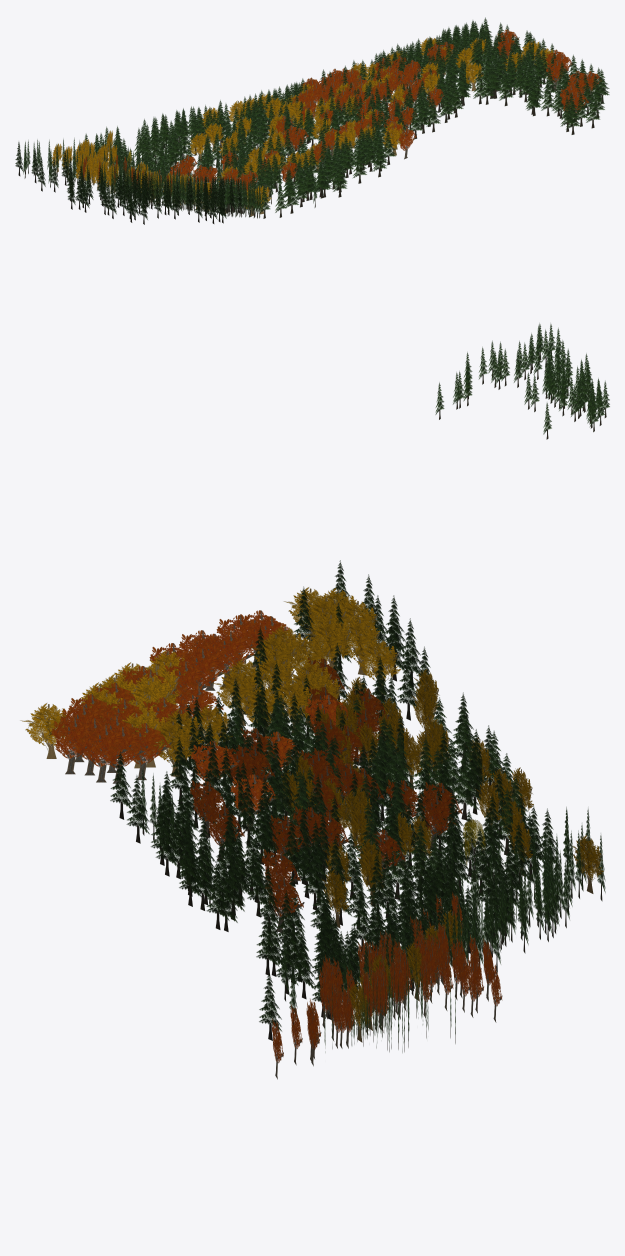
File: lowpoly_trees_9.glb
3 renders of one model, top to bottom at view 1: azimuth 30°, elevation 25°; view 2: azimuth 150°, elevation 25°; view 3: azimuth 270°, elevation 25°, orthographic. The views are drawn at different scales.
Parts seen in each view (by area): view 1: fir_tree.png__, tree_d.png__, tree_c.png__; view 2: fir_tree.png__; view 3: fir_tree.png__, tree_c.png__, tree_d.png__.
Boxes of the visible parts, x1,y1,x2,y2 form: fir_tree.png__: (15, 17, 609, 224); tree_d.png__: (51, 37, 553, 215); tree_c.png__: (83, 29, 602, 202); fir_tree.png__: (435, 323, 609, 439); fir_tree.png__: (110, 560, 605, 1052); tree_c.png__: (51, 610, 502, 1079); tree_d.png__: (20, 587, 603, 1042).
Size of the model in its own units: 679 by 157 by 323.
4 materials, 4 textured.
